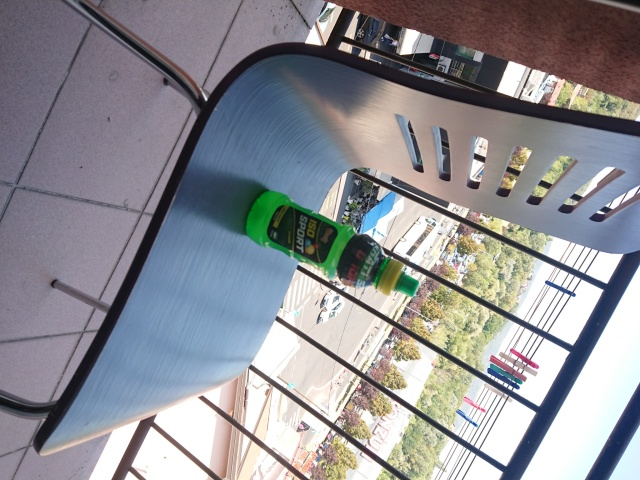Vindi Iso Sport Lemon-Grapefruit 500mL: (242, 188, 421, 299)
